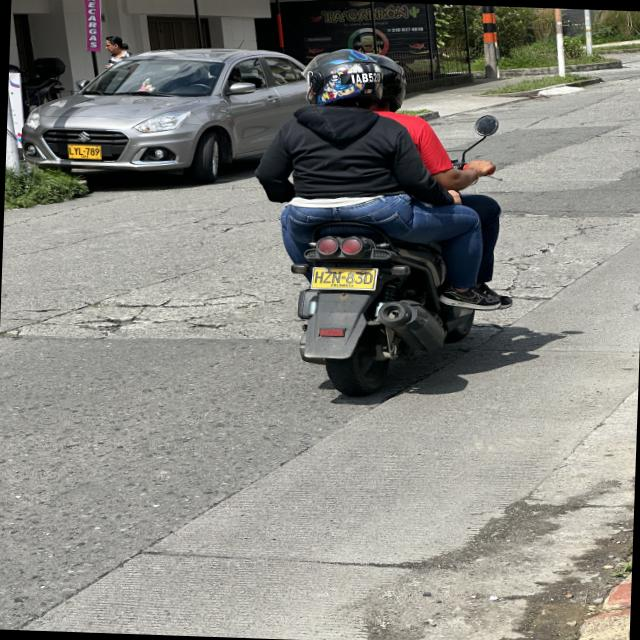number plate: (310, 267, 378, 290)
